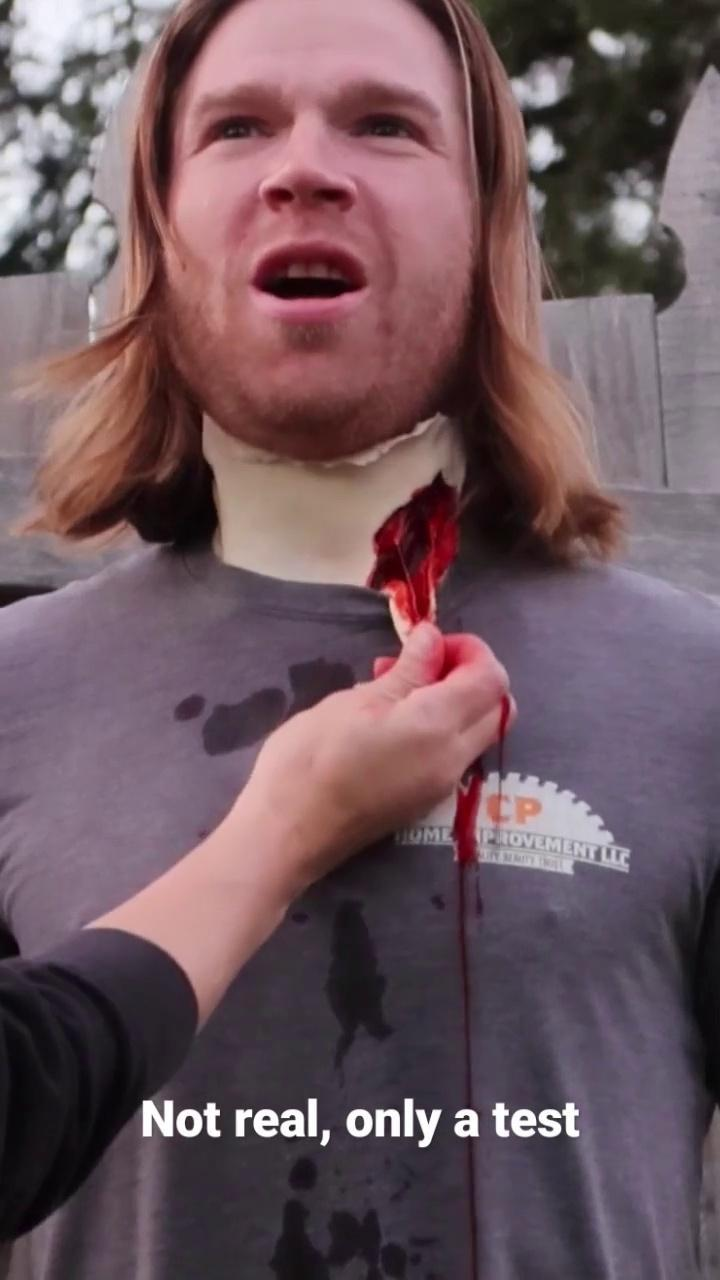Fire: (369, 475, 458, 634), (453, 757, 484, 1108), (467, 1149, 478, 1280), (499, 699, 514, 750)
